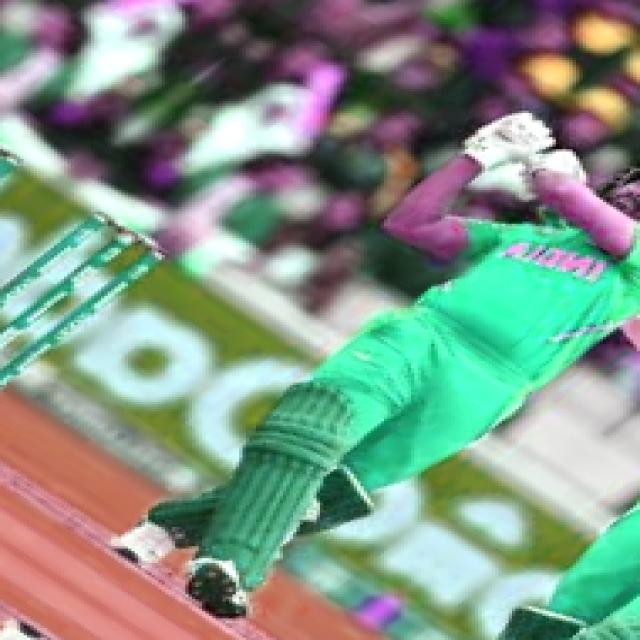toe: (626, 327, 640, 355)
